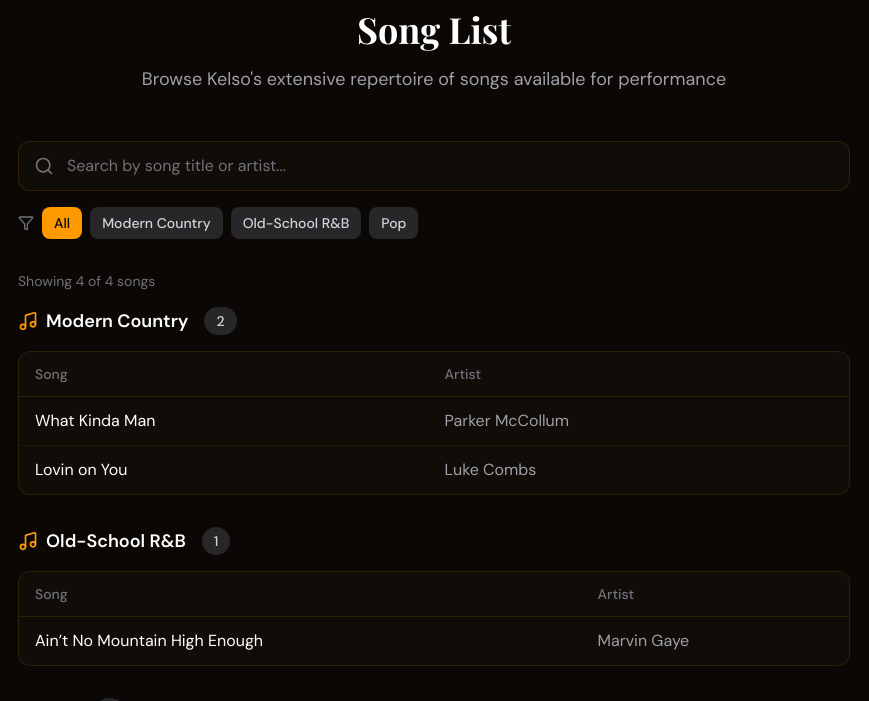
Test case: SongsClient › combines search and genre filters, showing an empty state when nothing matches
Click the button "Modern Country" at (156, 223), box [90,207,223,239]
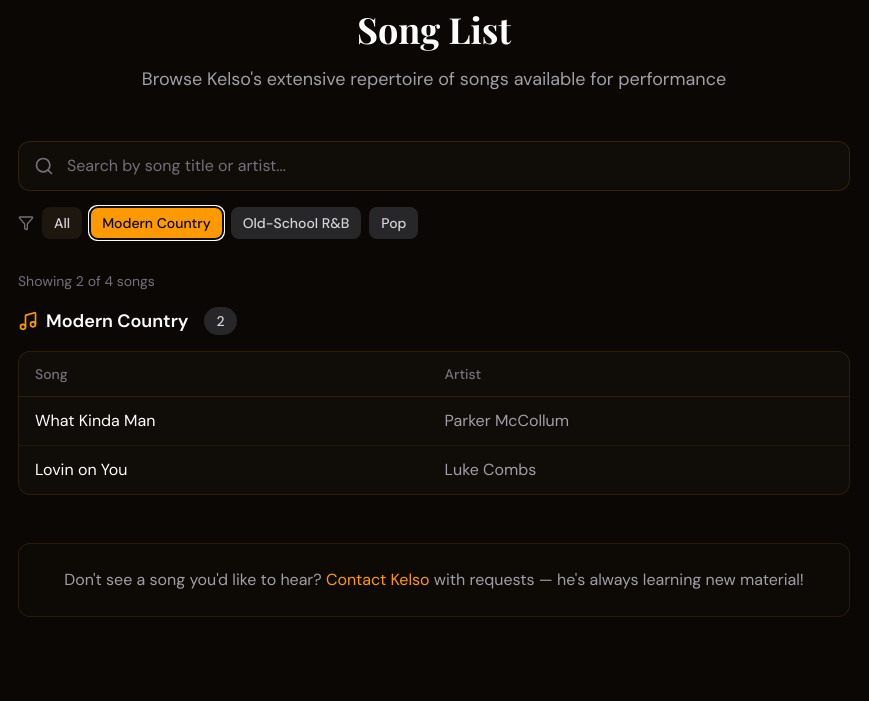
Type "Yellow" into the field with placeholder "Search by song title or artist..." at (434, 166), box [18,141,850,191]
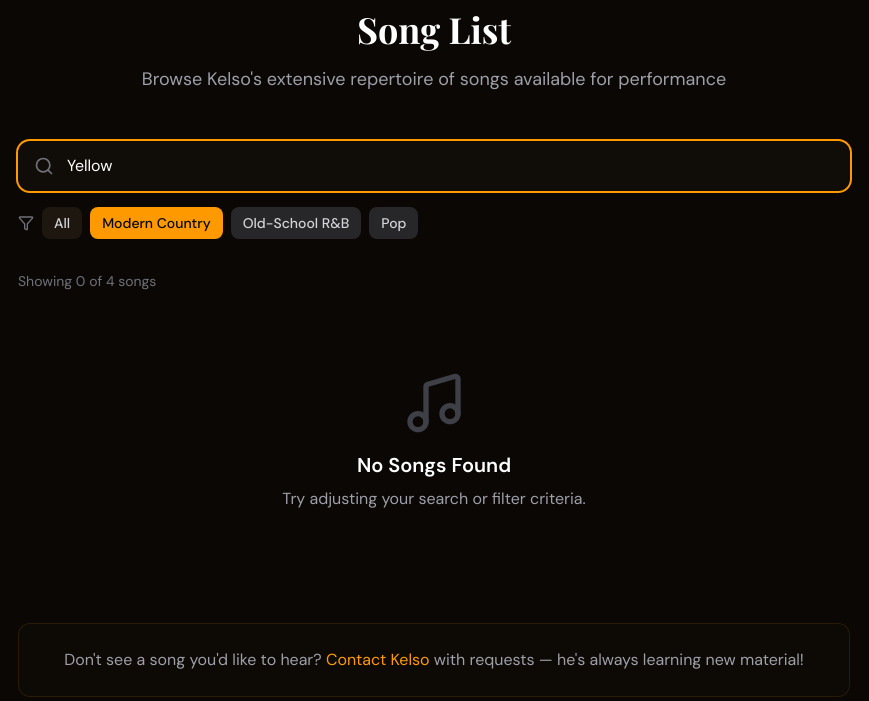
expect the heading "No Songs Found" is shown: met, box [357,452,511,478]
